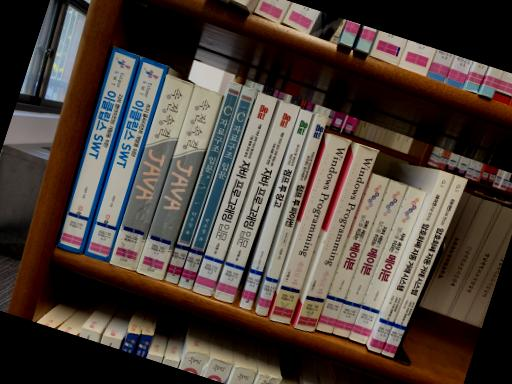book-spine: (55, 46, 141, 254), (83, 56, 168, 263), (192, 92, 278, 296), (214, 101, 300, 303), (136, 84, 223, 279), (109, 75, 193, 271), (164, 81, 243, 284), (178, 86, 257, 289), (367, 169, 453, 354), (381, 175, 467, 358), (295, 143, 378, 332), (269, 134, 350, 323), (238, 109, 313, 311), (255, 113, 327, 315), (349, 187, 427, 344), (315, 173, 389, 333), (333, 180, 408, 337)
